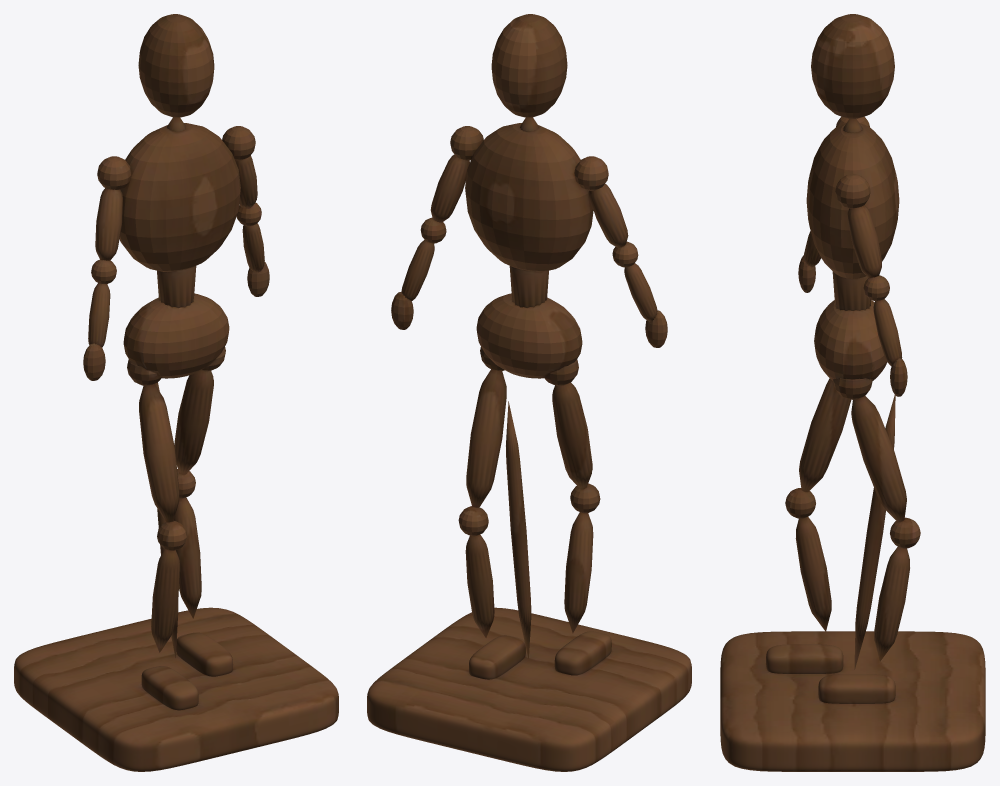
Rendered from dark-walnut.glb.
The picture shows the model from 3 angles, left to right: view 1: azimuth 30°, elevation 25°; view 2: azimuth 150°, elevation 25°; view 3: azimuth 270°, elevation 25°; orthographic projection.
Visible parts, largest first — view 1: mannequin_wood; view 2: mannequin_wood; view 3: mannequin_wood.
Boxes of the visible parts, x1,y1,x2,y2 form: mannequin_wood: (14,14,338,771); mannequin_wood: (367,14,691,771); mannequin_wood: (720,14,985,771).
Bounding box in the file's own units: 0.1224 × 0.352 × 0.12.
1 material, 1 textured.
